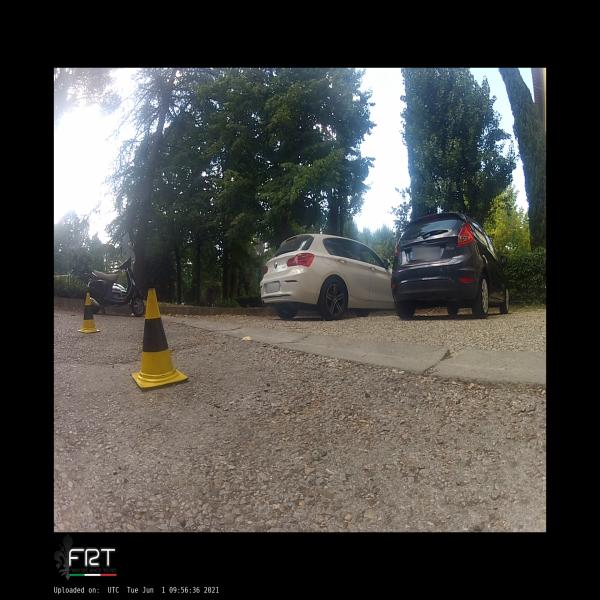yellow_cone: (132, 288, 188, 391), (77, 292, 101, 333)
